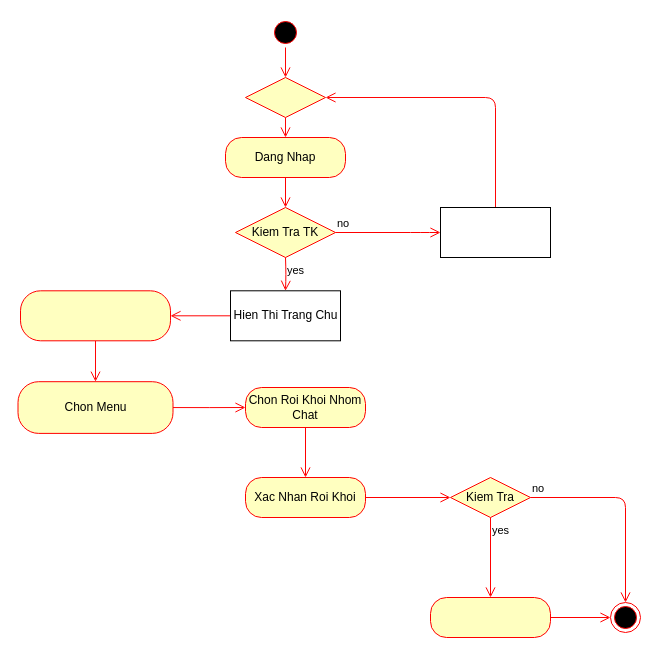
Some shapes in this 658 by 655 pixel diagram are drawn without their labels. The shapes that lost their labels are listed below. From the top down, each one's centre as x and y in pixels, then its label:
pixel 495 232: Thong Bao Sai
pixel 95 315: Chom Nhom Chat
pixel 490 617: Xoa Ten Khoi Nhom Chat
